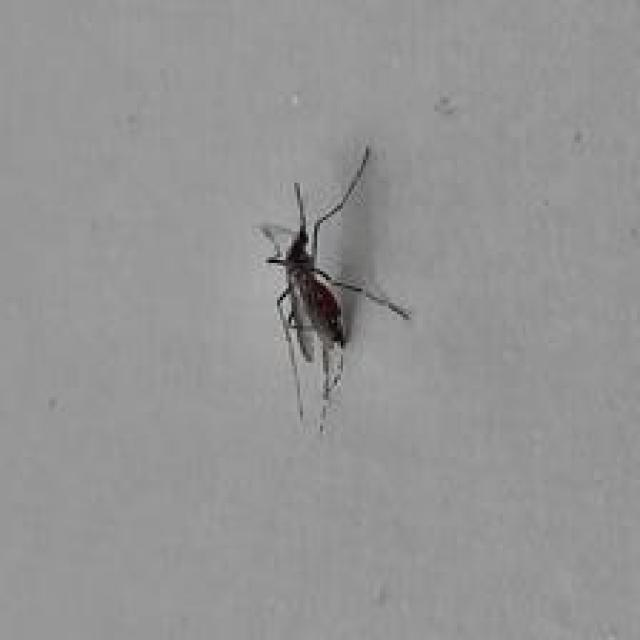Aedes albopictus: (254, 144, 412, 436)
